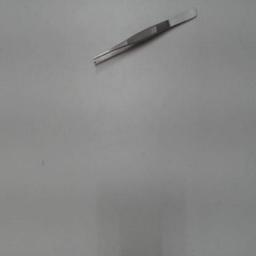Gillies Toothed Dissector: (88, 4, 204, 66)
